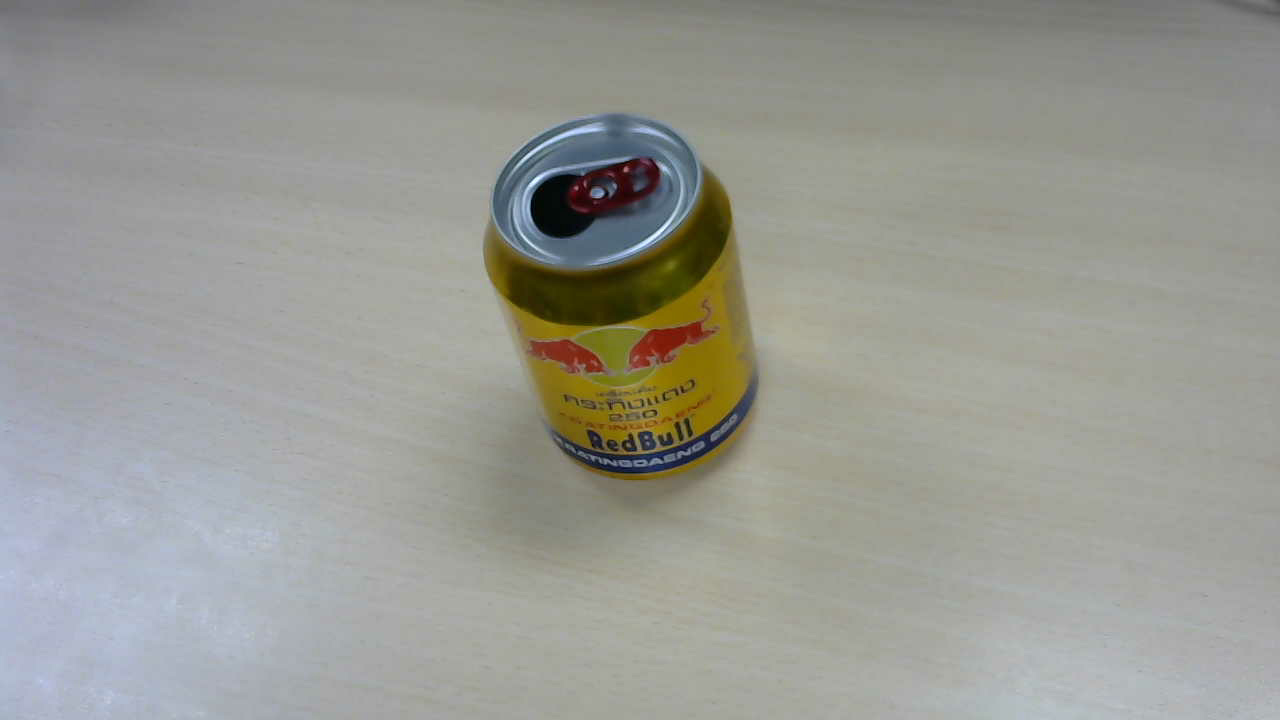Red_Bull: (487, 119, 772, 485)
